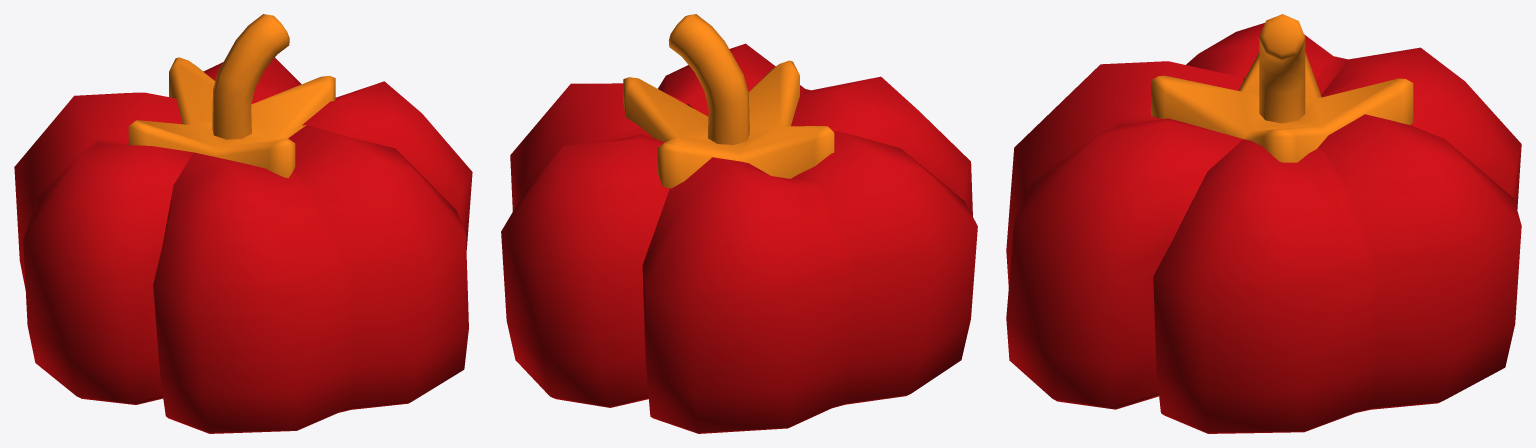
File: Pepper_red_half_02.fbx
3 renders of one model, left to right at view 1: azimuth 30°, elevation 25°; view 2: azimuth 150°, elevation 25°; view 3: azimuth 270°, elevation 25°, orthographic. The views are drawn at different scales.
Parts seen in each view (by area): view 1: Pepper_red_half_02; view 2: Pepper_red_half_02; view 3: Pepper_red_half_02.
Part boxes in pixels (left/top/right/bottom): Pepper_red_half_02: left=14, top=14, right=472, bottom=433; Pepper_red_half_02: left=501, top=14, right=977, bottom=433; Pepper_red_half_02: left=1006, top=14, right=1521, bottom=433.
Bounding box in the file's own units: 94.74 × 93.58 × 68.01.
